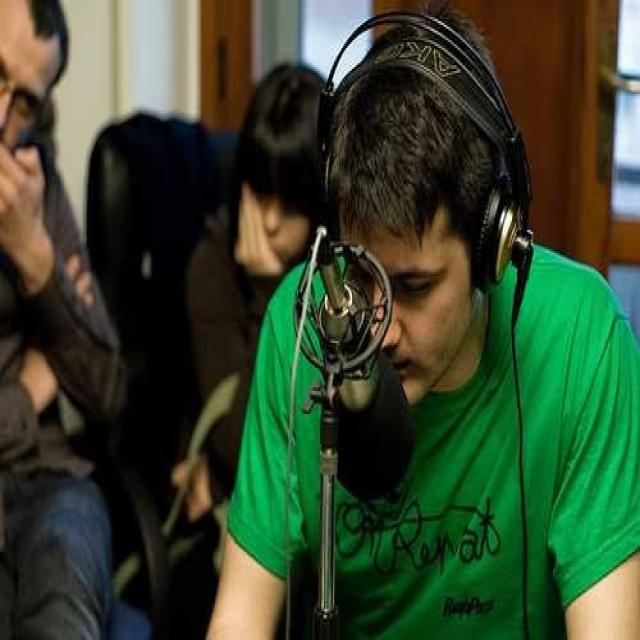microphone: (307, 221, 415, 503)
